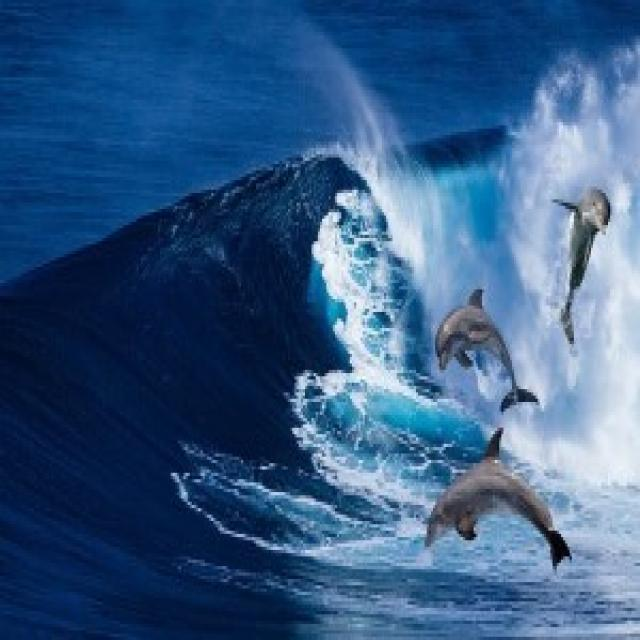Dolphin: (421, 422, 577, 579), (431, 275, 544, 413), (550, 176, 618, 360)
